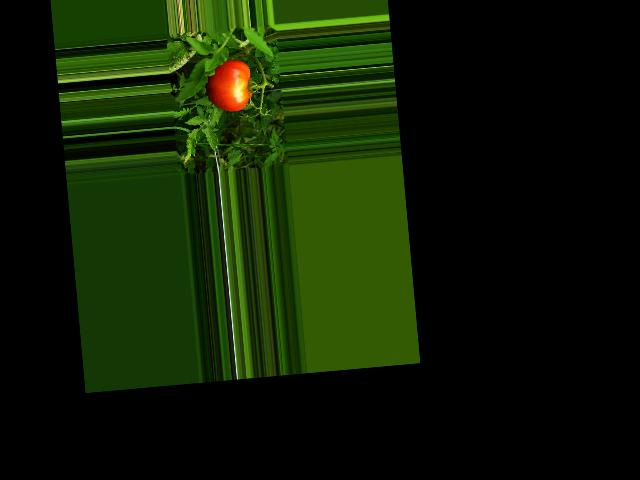tomato: (204, 58, 254, 113)
